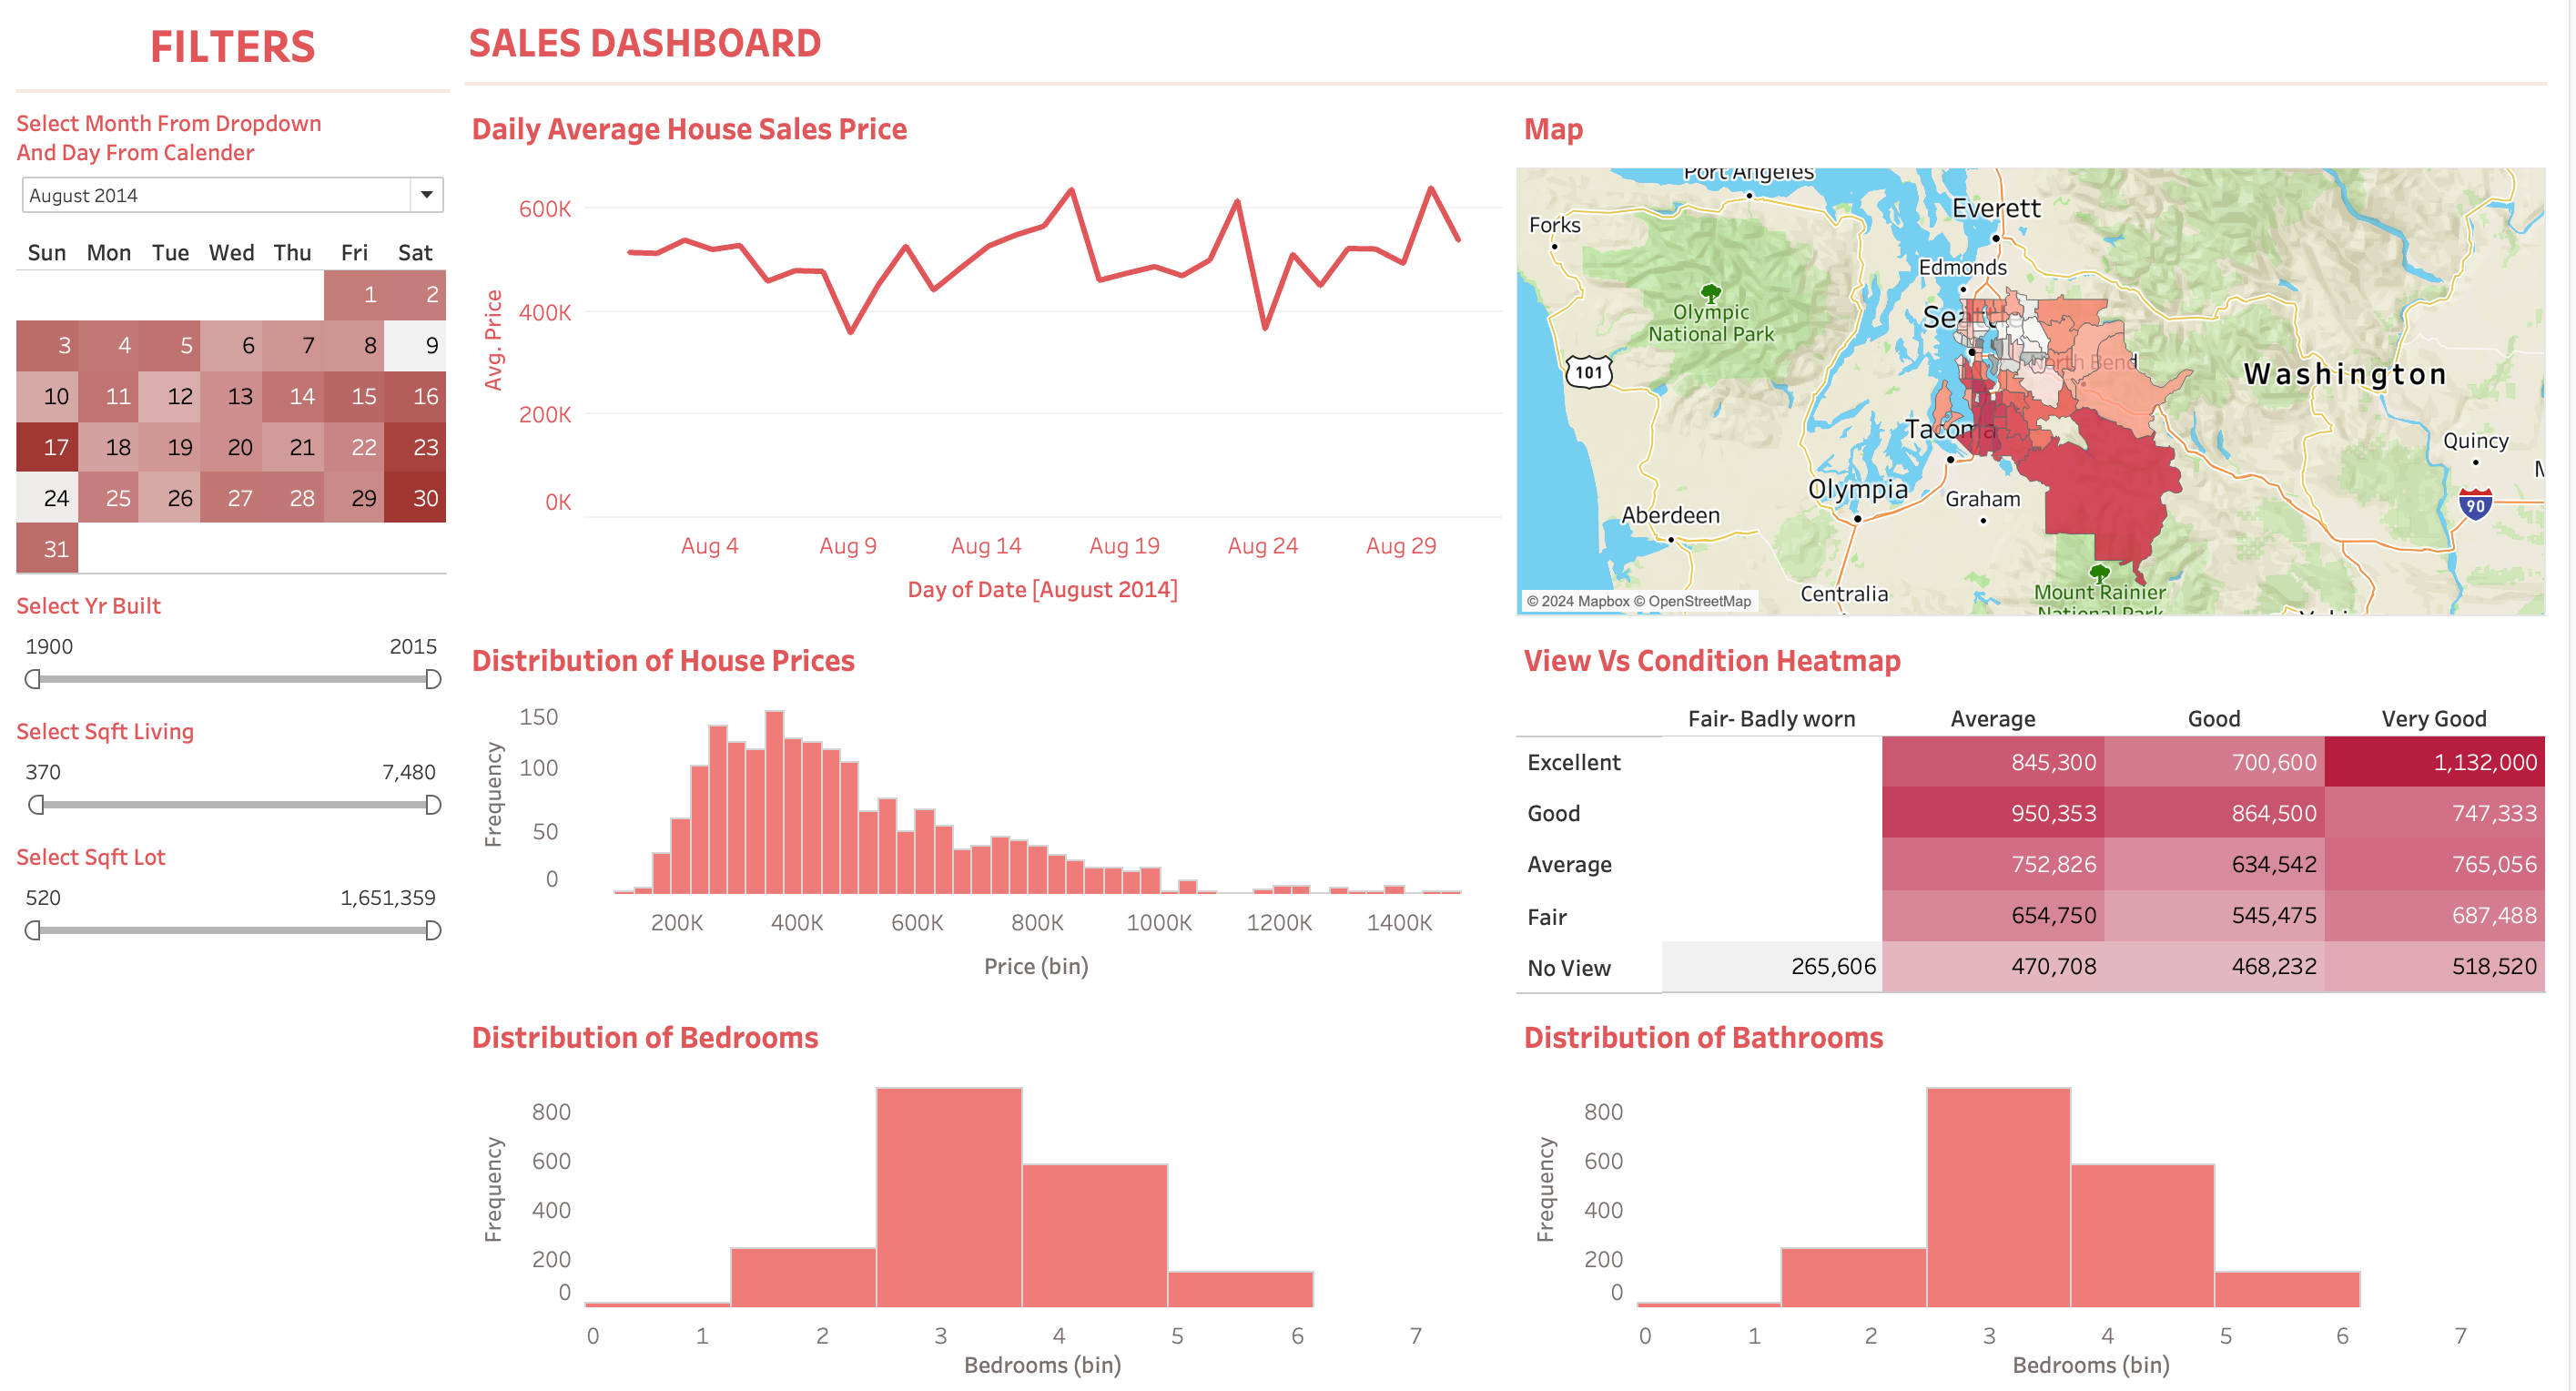

The page's visual inventory and layout, read from the dashboard file:
{"tool":"tableau","page":{"name":"KING COUNTY HOUSE SALES","canvas":[1000,1000],"units":"permille","ordinal":0},"visuals":[{"type":"text","box":[6.5,9.9,173.7,50.9]},{"type":"text","box":[180.2,9.9,813.3,45.9]},{"type":"blank","box":[180.2,55.8,813.3,12.4]},{"type":"blank","box":[6.5,60.8,173.7,12.4]},{"type":"worksheet","title":"Linechart","mark":"Automatic","rows":["price"],"cols":["date"],"box":[180.2,68.2,407.8,380]},{"type":"worksheet","title":"map","mark":"Automatic","box":[588,68.2,405.6,380]},{"type":"filter","title":"Calender","param":"[federated.0xhm4rg1qjx6ys19gt2kl1fxtzih].[my:date:ok]","box":[6.5,73.2,173.7,85.6]},{"type":"worksheet","title":"Calender","mark":"Square","rows":["date"],"cols":["date"],"box":[6.5,158.8,173.7,243.2]},{"type":"filter","title":"Calender","param":"[federated.0xhm4rg1qjx6ys19gt2kl1fxtzih].[none:yr_built:qk]","box":[6.5,402,173.7,85.6]},{"type":"worksheet","title":"HistHousePrices","mark":"Automatic","rows":["price"],"cols":["Price (bin)"],"box":[180.2,448.2,408.1,267.7]},{"type":"worksheet","title":"Heatmap","mark":"Square","rows":["view"],"cols":["condition"],"box":[588.2,448.2,405.3,267.7]},{"type":"filter","title":"Calender","param":"[federated.0xhm4rg1qjx6ys19gt2kl1fxtzih].[none:sqft_living:qk]","box":[6.5,487.6,173.7,85.6]},{"type":"filter","title":"Calender","param":"[federated.0xhm4rg1qjx6ys19gt2kl1fxtzih].[none:sqft_lot:qk]","box":[6.5,573.2,173.7,85.6]},{"type":"worksheet","title":"HistBedrooms","mark":"Automatic","rows":["bedrooms"],"cols":["Bedrooms (bin)"],"box":[180.2,715.9,408.1,274.2]},{"type":"worksheet","title":"HistBathrooms","mark":"Automatic","rows":["bedrooms"],"cols":["Bedrooms (bin)"],"box":[588.2,715.9,405.3,274.2]}]}

Visuals, with their boxes on the dashboard's canvas, which has no fixed pixel size, in thousandths of its width and height (x1, y1, x2, y2). These are canvas units, not pixel positions in the 2576x1391 screenshot, which may show the page scaled, cropped or inside an application window:
text: {"left": 6, "top": 10, "right": 180, "bottom": 61}
text: {"left": 180, "top": 10, "right": 994, "bottom": 56}
blank: {"left": 180, "top": 56, "right": 994, "bottom": 68}
blank: {"left": 6, "top": 61, "right": 180, "bottom": 73}
"Linechart" worksheet: {"left": 180, "top": 68, "right": 588, "bottom": 448}
"map" worksheet: {"left": 588, "top": 68, "right": 994, "bottom": 448}
"Calender" filter: {"left": 6, "top": 73, "right": 180, "bottom": 159}
"Calender" worksheet (Square marks): {"left": 6, "top": 159, "right": 180, "bottom": 402}
"Calender" filter: {"left": 6, "top": 402, "right": 180, "bottom": 488}
"HistHousePrices" worksheet: {"left": 180, "top": 448, "right": 588, "bottom": 716}
"Heatmap" worksheet (Square marks): {"left": 588, "top": 448, "right": 994, "bottom": 716}
"Calender" filter: {"left": 6, "top": 488, "right": 180, "bottom": 573}
"Calender" filter: {"left": 6, "top": 573, "right": 180, "bottom": 659}
"HistBedrooms" worksheet: {"left": 180, "top": 716, "right": 588, "bottom": 990}
"HistBathrooms" worksheet: {"left": 588, "top": 716, "right": 994, "bottom": 990}
